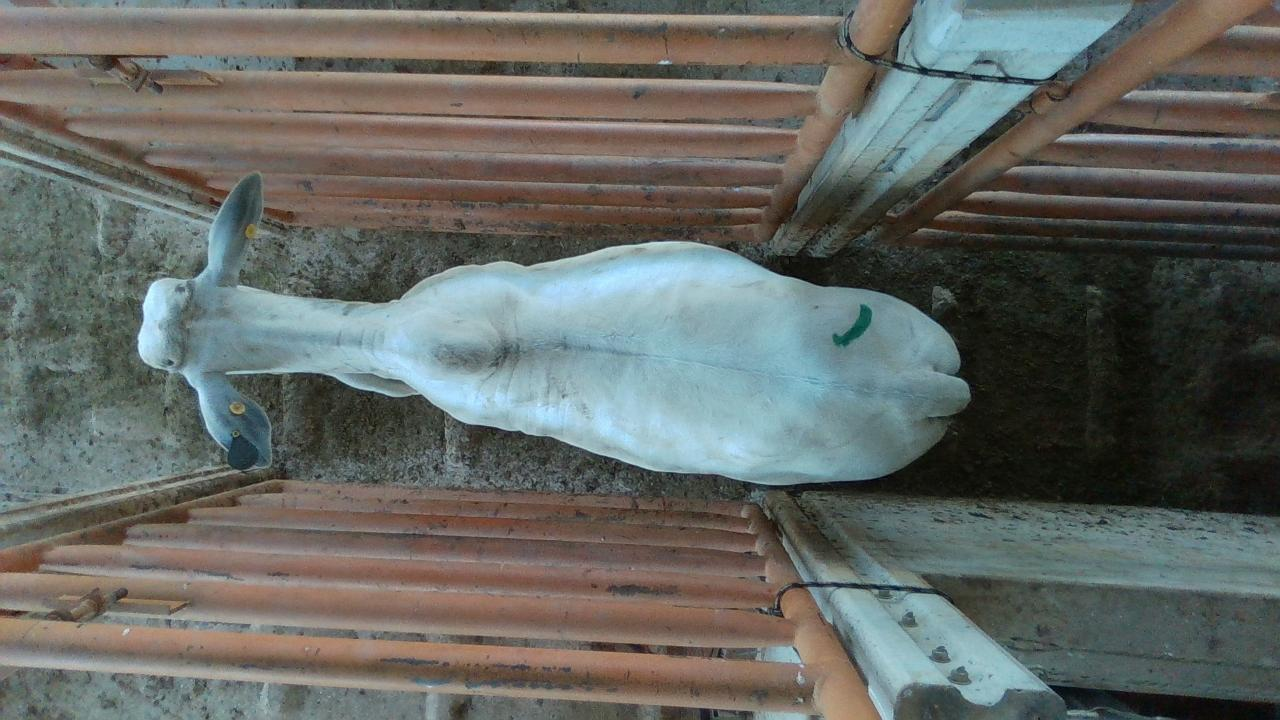cattle: (135, 169, 972, 487)
